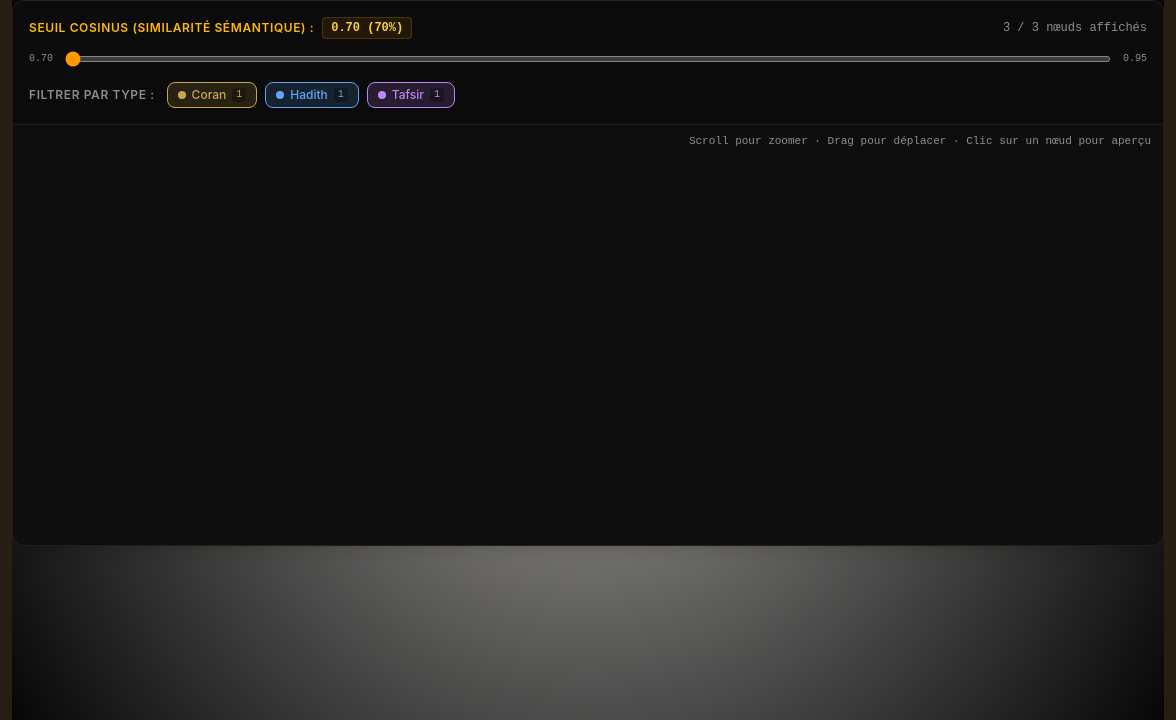
Test: ConnectionGraph Component › updates threshold filter value when slider is moved
The width and height of the screenshot is (1176, 720).
Set the slider named "Filtre seuil de similarité cosinus" to "0.80" at (485, 58), box [65,56,1111,62]
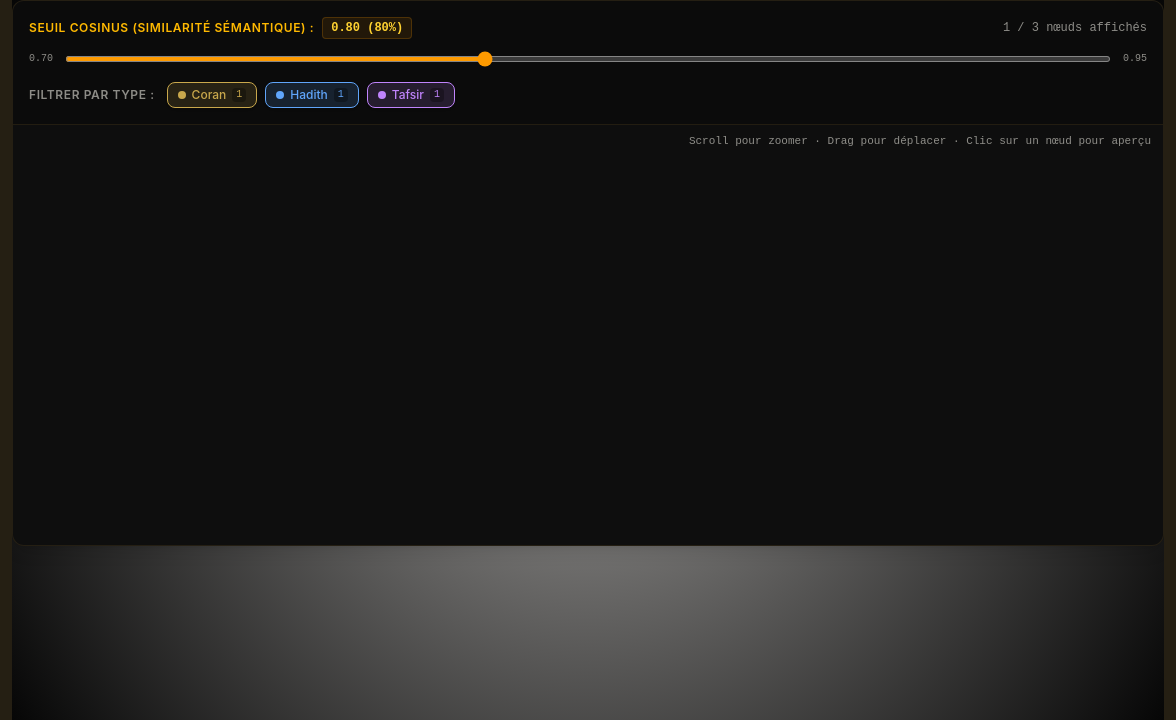
expect the text "0.80 (80%)" is shown: met, box [322,17,412,39]
